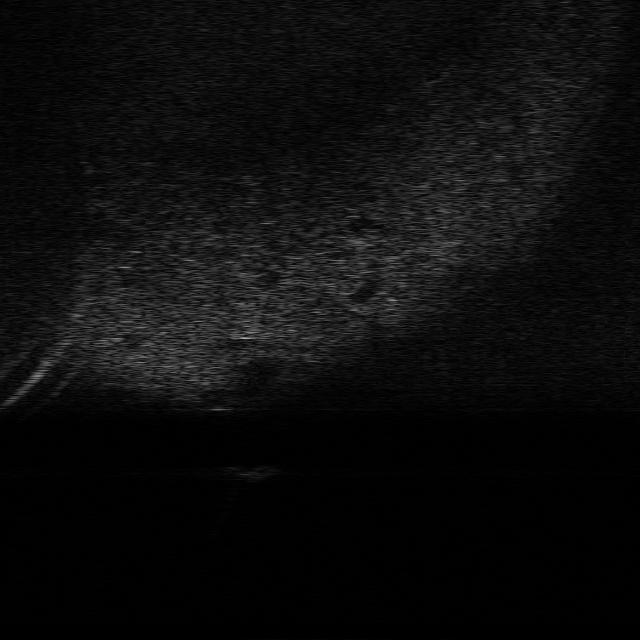cube: (225, 458, 275, 484)
